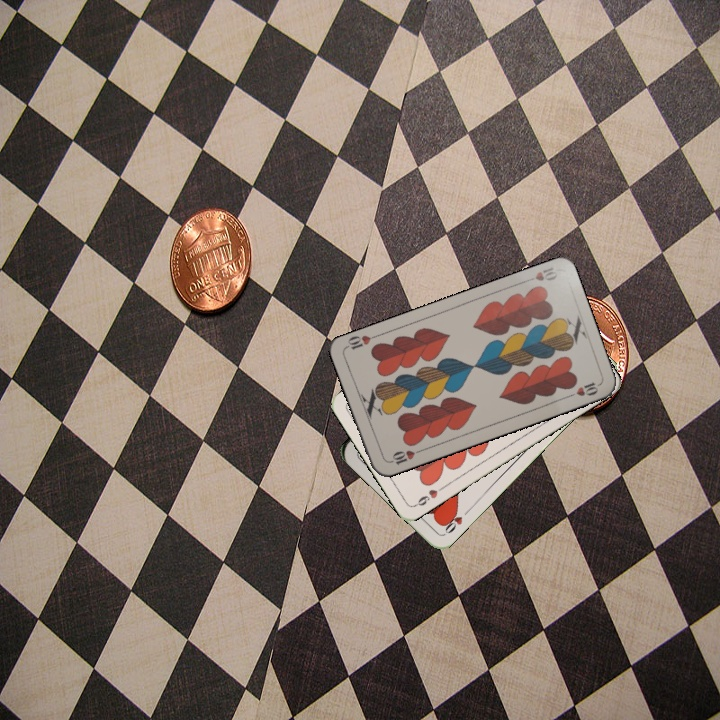H10: (520, 263, 560, 285), (385, 445, 424, 467)
H9: (411, 482, 447, 509)
HO: (438, 505, 473, 537)
